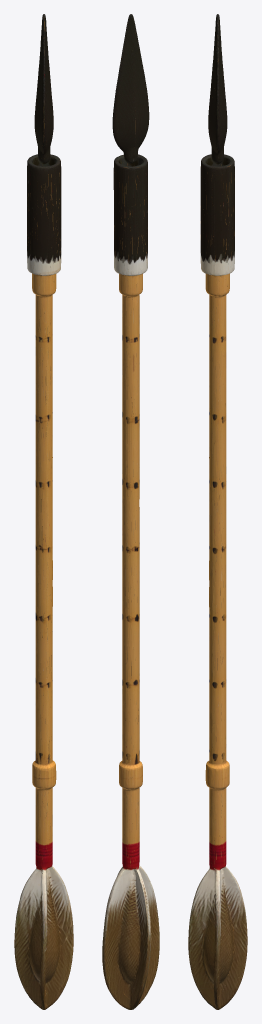
File: rocket.glb
The picture shows the model from 3 angles, left to right: view 1: azimuth 90°, elevation 25°; view 2: azimuth 210°, elevation 25°; view 3: azimuth 270°, elevation 25°; orthographic projection.
Bounding box in the file's own units: 0.1125 × 1.9 × 0.1024.
Materials: 1 (1 with a texture image).
